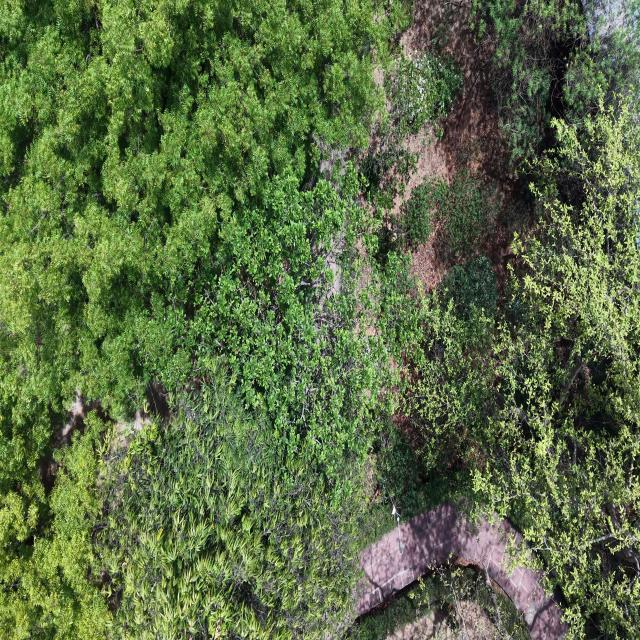DRY_AREA: (386, 0, 528, 291), (391, 0, 526, 286), (356, 503, 566, 639), (393, 0, 517, 214), (394, 3, 514, 213), (400, 0, 514, 190), (39, 391, 112, 491), (391, 124, 454, 218), (387, 601, 504, 639), (114, 382, 171, 447), (54, 392, 110, 447), (52, 392, 101, 449), (581, 0, 629, 42), (387, 616, 448, 639)
PATHWAYS: (357, 504, 567, 639)
VEGETATION_TREE: (0, 0, 639, 639), (0, 2, 391, 638), (0, 2, 384, 484), (393, 26, 639, 637), (394, 72, 639, 637), (405, 105, 639, 637), (474, 105, 639, 637), (95, 363, 362, 638), (178, 170, 385, 514), (470, 0, 639, 160), (0, 412, 110, 639), (470, 0, 588, 159), (404, 290, 502, 472), (361, 50, 462, 211), (352, 567, 528, 639), (561, 0, 639, 125), (400, 167, 500, 262), (385, 51, 462, 139), (431, 168, 500, 261), (439, 254, 498, 320), (402, 181, 446, 245)
